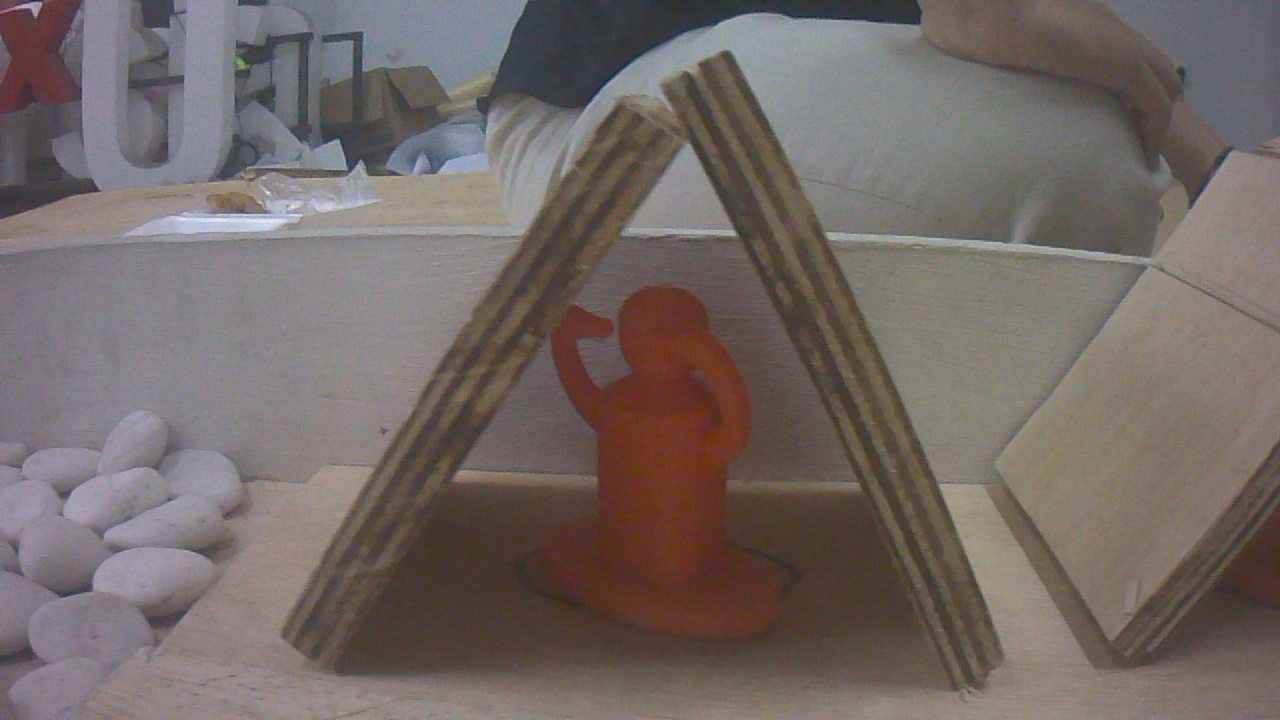real: (524, 280, 759, 643)
